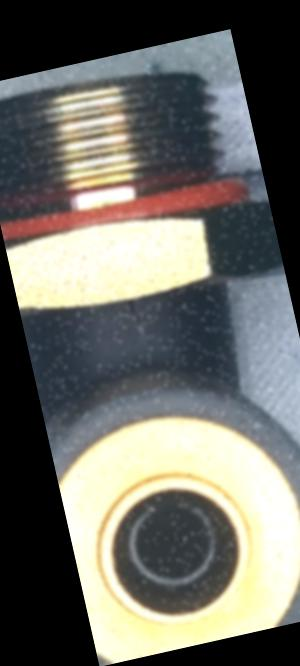craze: (121, 290, 147, 332)
